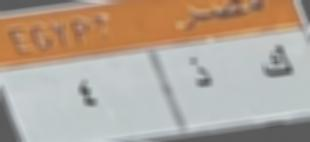4: (70, 75, 103, 115)
kaaf: (257, 38, 296, 86)
zaal: (186, 49, 216, 93)
